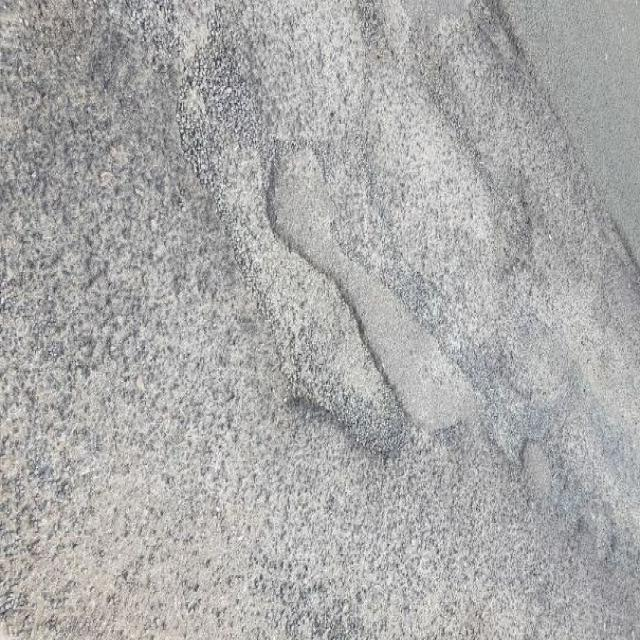Pothole: (189, 121, 416, 467)
